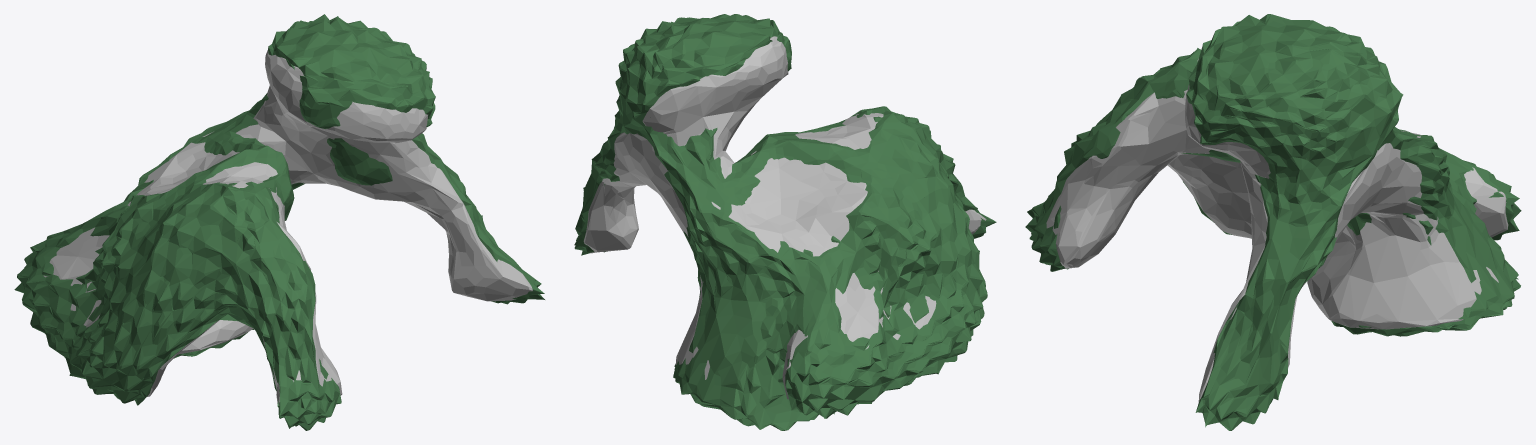
The model's file is Rock_046.fbx.
The picture shows the model from 3 angles, left to right: view 1: azimuth 30°, elevation 25°; view 2: azimuth 150°, elevation 25°; view 3: azimuth 270°, elevation 25°; orthographic projection. The views are drawn at different scales.
Parts seen in each view (by area): view 1: Rock_046; view 2: Rock_046; view 3: Rock_046.
Part boxes in pixels (x1,y1,x2,y2): Rock_046: [14, 14, 544, 430]; Rock_046: [574, 14, 996, 430]; Rock_046: [1025, 14, 1521, 430].
Size of the model in its own units: 1518 by 1392 by 1038.
Materials: 1 (1 with a texture image).
